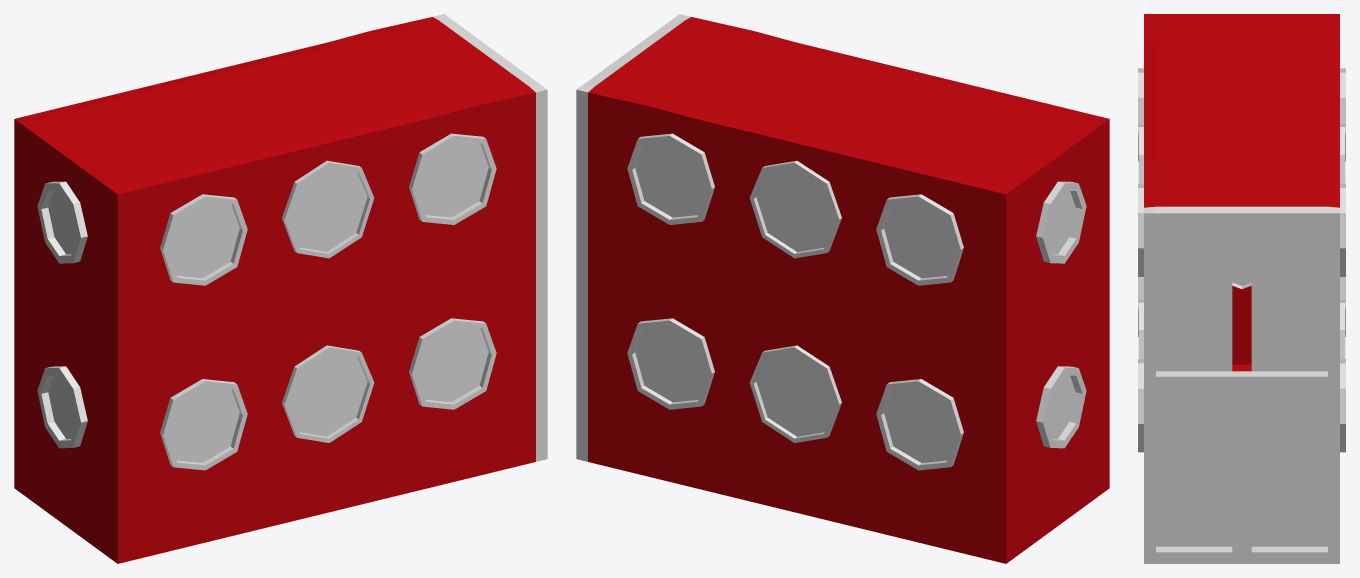
The model's file is tall.fbx.
3 renders of one model, left to right at view 1: azimuth 30°, elevation 25°; view 2: azimuth 150°, elevation 25°; view 3: azimuth 270°, elevation 25°, orthographic. The views are drawn at different scales.
Parts seen in each view (by area): view 1: tall; view 2: tall; view 3: tall.
Part boxes in pixels (x1,y1,x2,y2): tall: [14, 14, 547, 563]; tall: [576, 14, 1109, 563]; tall: [1138, 14, 1345, 563].
Bounding box in the file's own units: 438 × 355 × 190.
